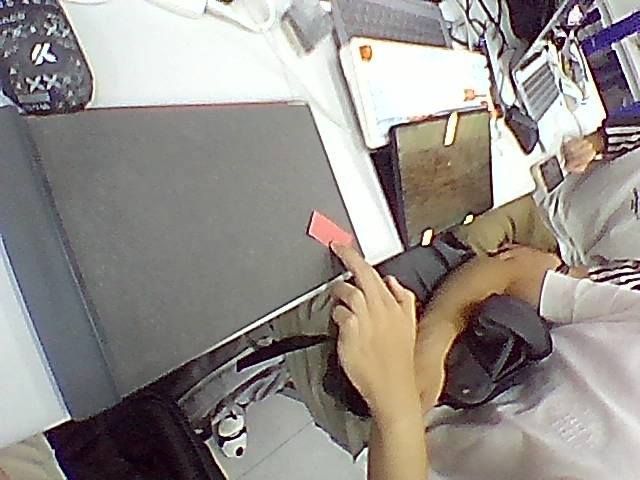card: (307, 210, 352, 247)
